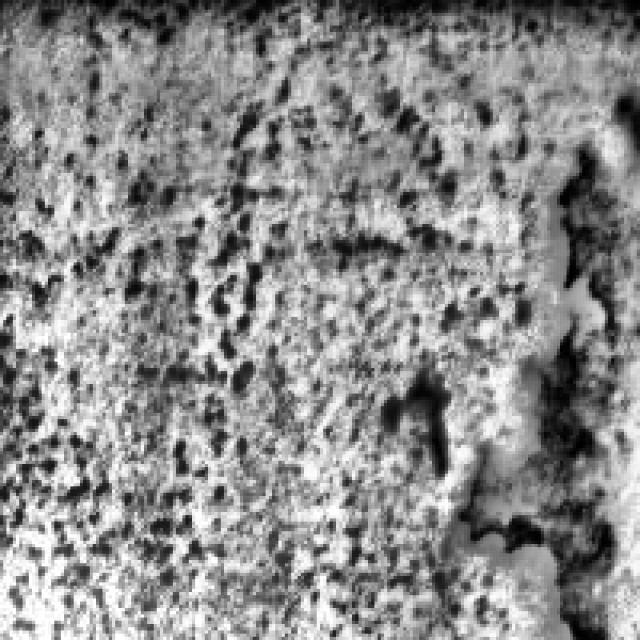Rolled_in_Scale: (4, 0, 518, 637)
Scratches: (461, 282, 637, 634), (550, 125, 628, 352)
